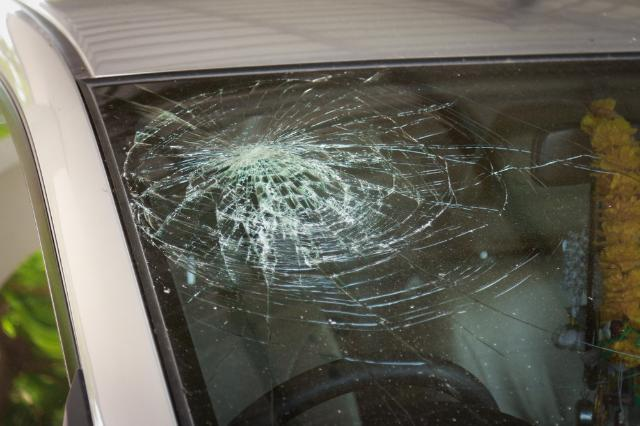glass shatter: (91, 57, 640, 426)
